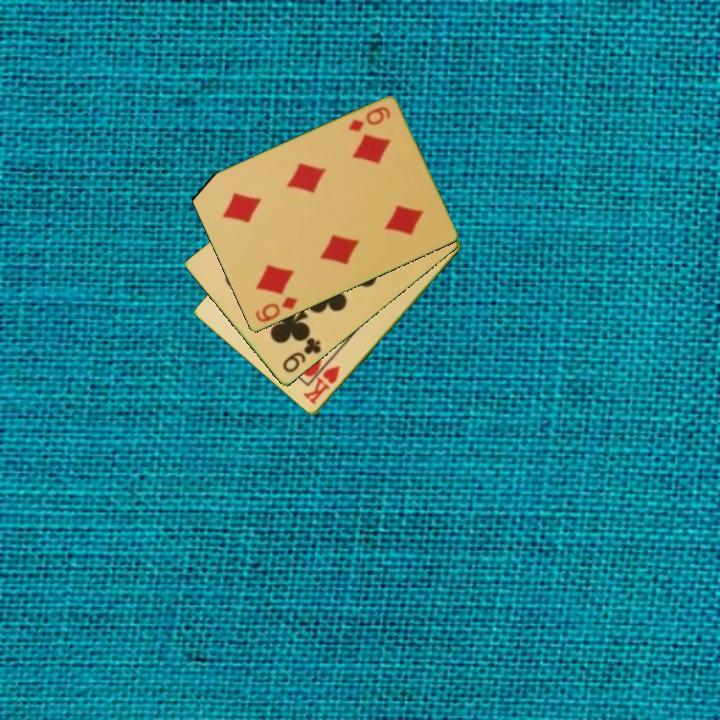6d: (251, 293, 301, 326), (345, 103, 393, 135)
9c: (279, 334, 324, 376)
Kh: (300, 362, 343, 408)
